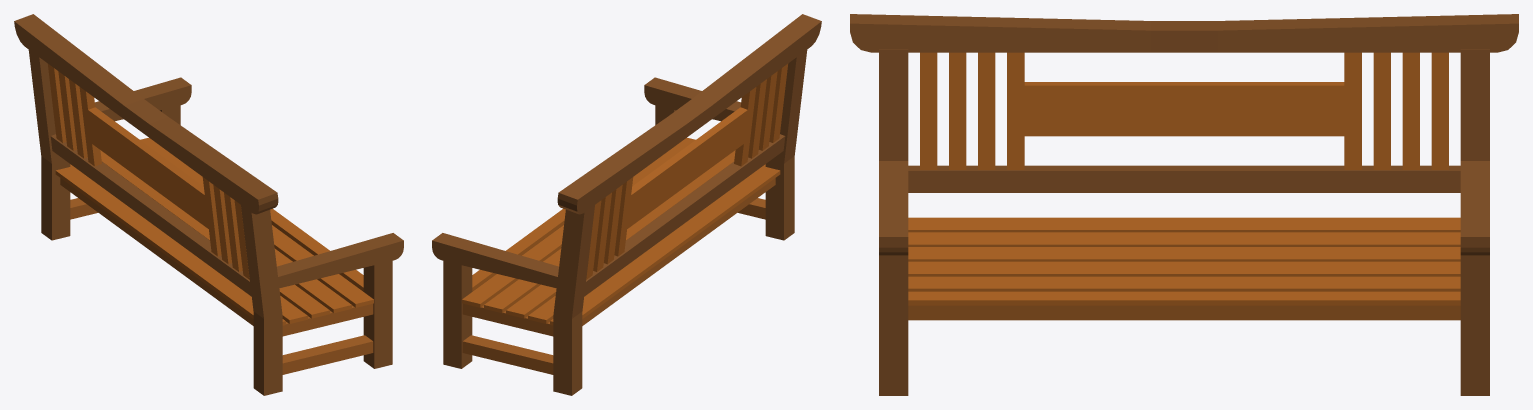
The model's file is Bench.fbx.
The picture shows the model from 3 angles, left to right: view 1: azimuth 30°, elevation 25°; view 2: azimuth 150°, elevation 25°; view 3: azimuth 270°, elevation 25°; orthographic projection. The views are drawn at different scales.
Visible parts, largest first — view 1: pCube17, pCube26, pCube3, pCube16, pCube10, pCube4, pCube7, pCube1, pCube9, pCube14, pCube12, pCube5 (+11 smaller); view 2: pCube17, pCube26, pCube4, pCube16, pCube10, pCube3, pCube8, pCube2, pCube9, pCube14, pCube12, pCube6 (+11 smaller); view 3: pCube17, pCube26, pCube16, pCube9, pCube10, pCube13, pCube14, pCube11, pCube12, pCube15, pCube1, pCube2 (+10 smaller).
Boxes of the visible parts, x1,y1,x2,y2 form: pCube17: [14, 14, 278, 214]; pCube26: [79, 87, 221, 256]; pCube3: [241, 205, 282, 395]; pCube16: [50, 134, 251, 296]; pCube10: [55, 164, 285, 325]; pCube4: [28, 50, 70, 240]; pCube7: [277, 233, 403, 288]; pCube1: [363, 261, 392, 368]; pCube9: [60, 178, 373, 336]; pCube14: [140, 137, 373, 307]; pCube12: [100, 150, 329, 318]; pCube5: [282, 335, 373, 374]; pCube17: [557, 14, 821, 214]; pCube26: [614, 87, 756, 256]; pCube4: [553, 205, 594, 395]; pCube16: [584, 134, 785, 296]; pCube10: [550, 164, 780, 325]; pCube3: [765, 50, 807, 240]; pCube8: [432, 233, 558, 288]; pCube2: [443, 261, 472, 368]; pCube9: [462, 178, 775, 336]; pCube14: [462, 137, 695, 307]; pCube12: [506, 150, 735, 318]; pCube6: [462, 335, 553, 374]; pCube17: [850, 14, 1518, 52]; pCube26: [1007, 52, 1361, 169]; pCube16: [908, 165, 1460, 192]; pCube9: [908, 305, 1460, 320]; pCube10: [908, 217, 1460, 232]; pCube13: [908, 261, 1460, 276]; pCube14: [908, 276, 1460, 291]; pCube11: [908, 232, 1460, 246]; pCube12: [908, 247, 1460, 261]; pCube15: [908, 291, 1460, 305]; pCube1: [879, 256, 908, 395]; pCube2: [1460, 256, 1489, 395].
Bounding box in the file's own units: 42.51 × 54.68 × 115.
